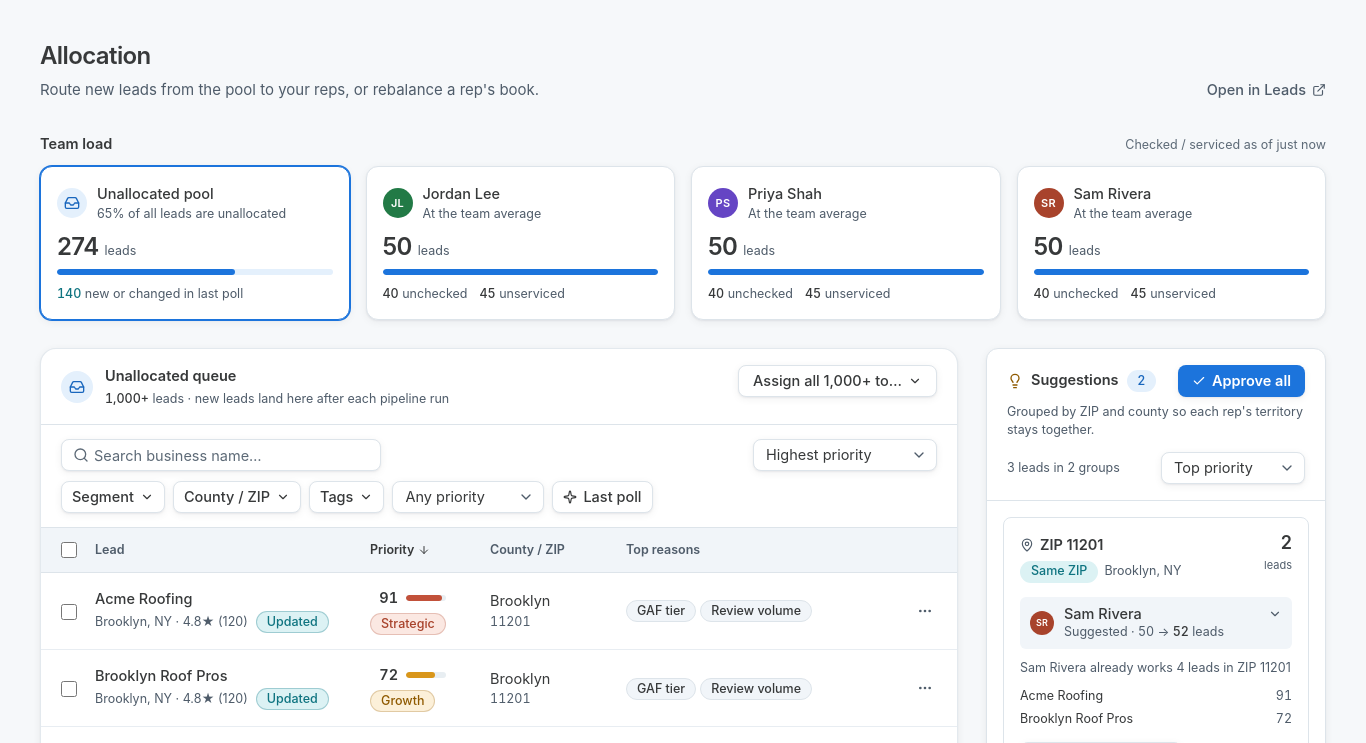
it: AllocationPage › flags a capped count and explains the server refusing an oversized batch
Step 1. Click the button "Assign all 1,000+ to…" → (838, 381), box x1=738 y1=365 x2=937 y2=397
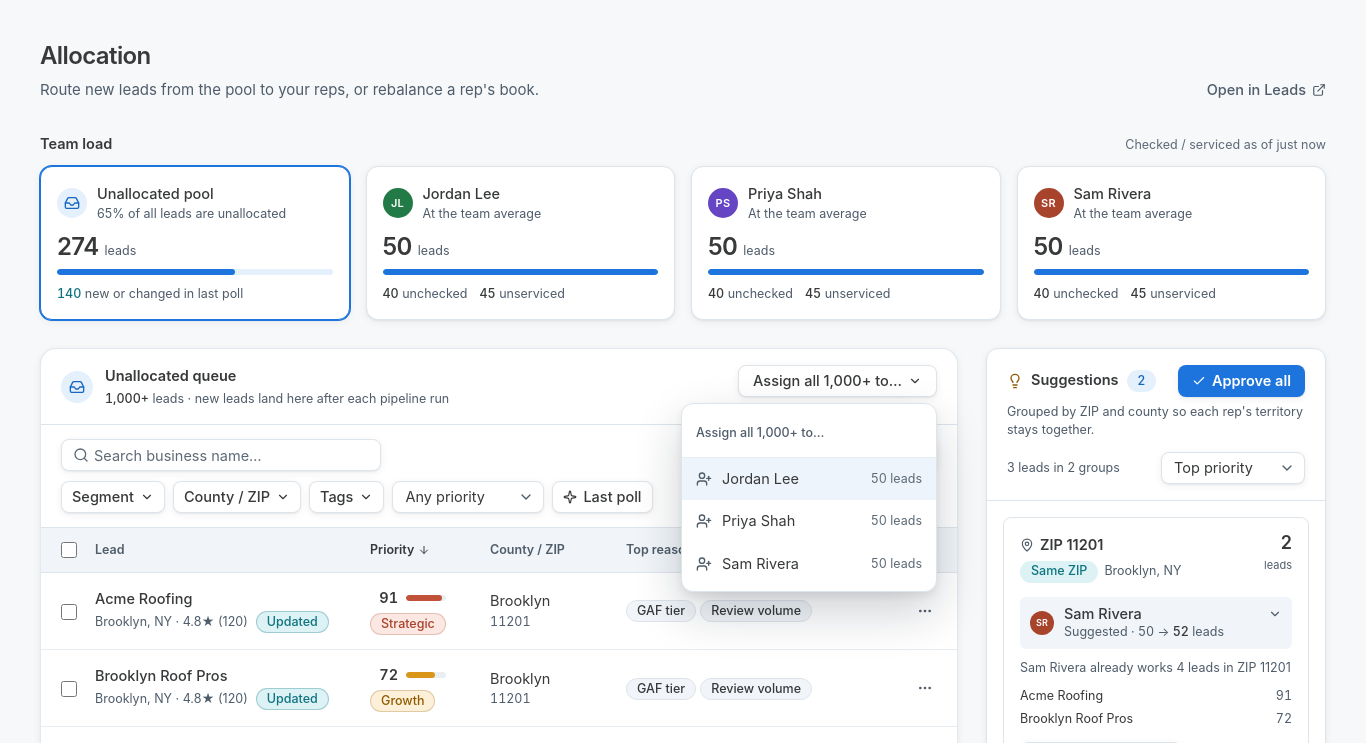
Step 2. Click the menu item "Jordan Lee 50 leads" → (809, 479), box x1=682 y1=458 x2=936 y2=500
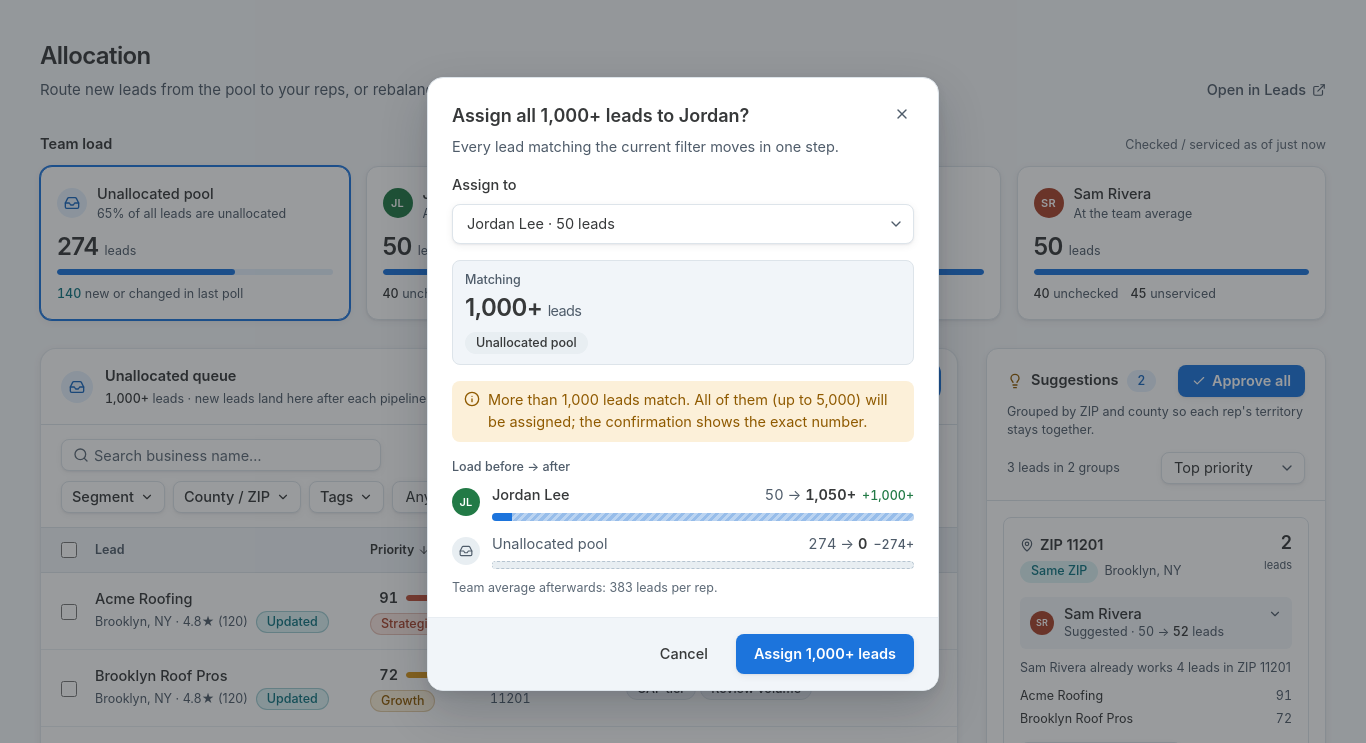
Result: the dialog "Assign all 1,000+ leads to Jordan?" shows "More than 1,000 leads match" at x1=427 y1=77 x2=939 y2=691
Step 3. Click the button "Assign 1,000+ leads" → (825, 654), box x1=736 y1=634 x2=914 y2=674
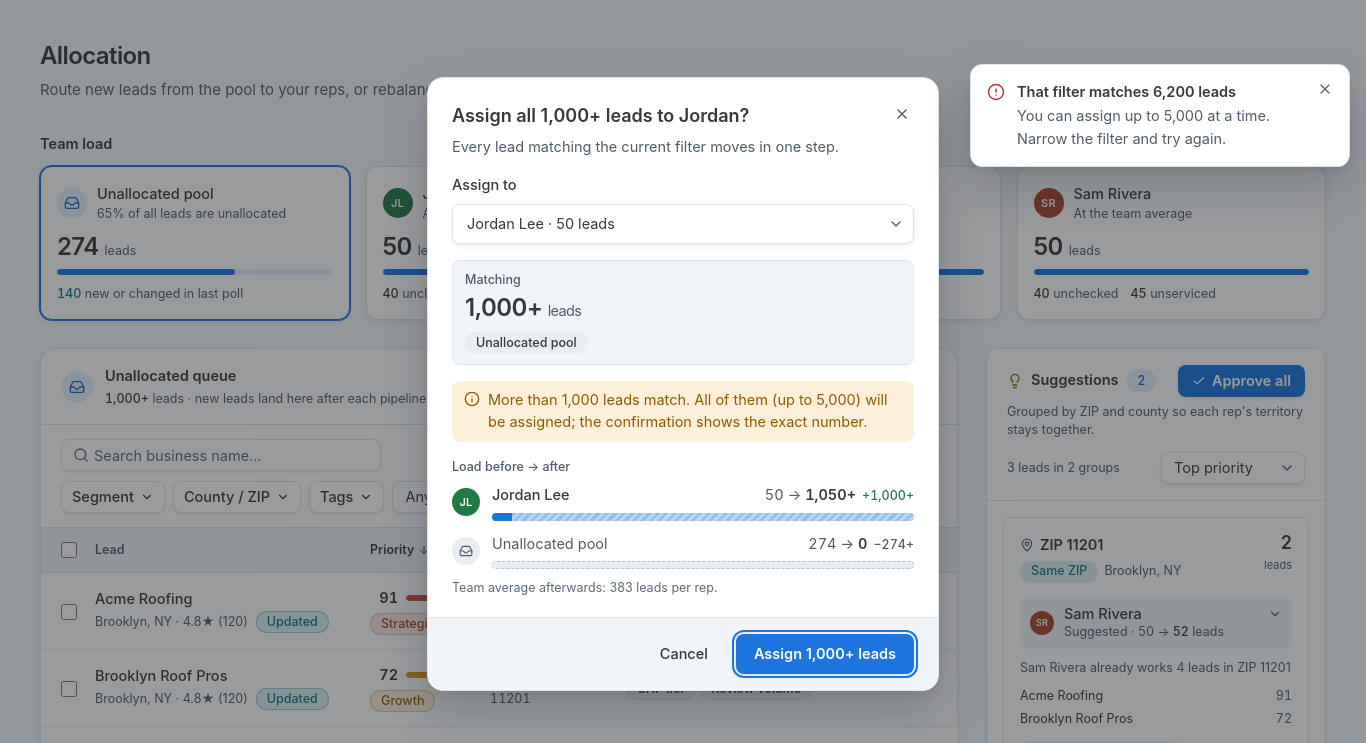
Result: the dialog "Assign all 1,000+ leads" is shown at x1=427 y1=77 x2=939 y2=691
Result: the text "That filter matches 6,200 leads" is shown at x1=1017 y1=83 x2=1236 y2=100
Result: the text "You can assign up to 5,000 at a time" is shown at x1=1017 y1=107 x2=1270 y2=147
